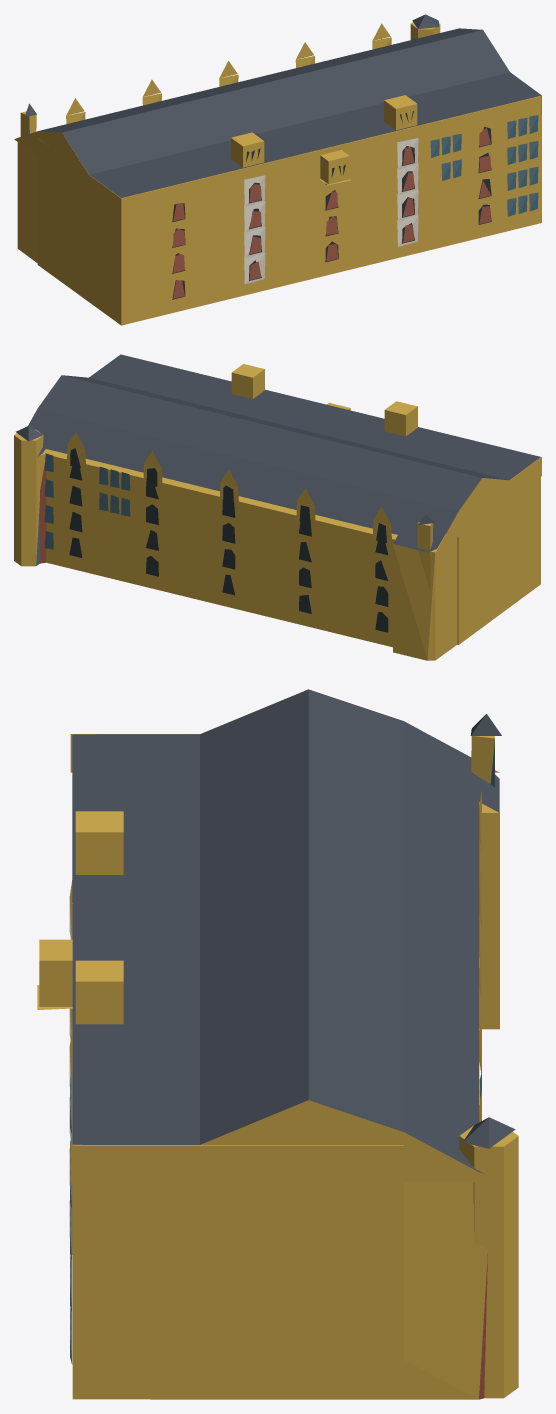
Rendered from het-veem.lod2.glb.
The picture shows the model from 3 angles, top to bottom: view 1: azimuth 30°, elevation 25°; view 2: azimuth 150°, elevation 25°; view 3: azimuth 270°, elevation 25°; orthographic projection. The views are drawn at different scales.
Visible parts, largest first — view 1: lod2; view 2: lod2; view 3: lod2.
Part boxes in pixels (bbox=[...]): lod2: bbox=[14, 14, 541, 325]; lod2: bbox=[14, 354, 541, 660]; lod2: bbox=[37, 689, 518, 1399].
Size of the model in its own units: 60.18 by 20.4 by 29.73.
